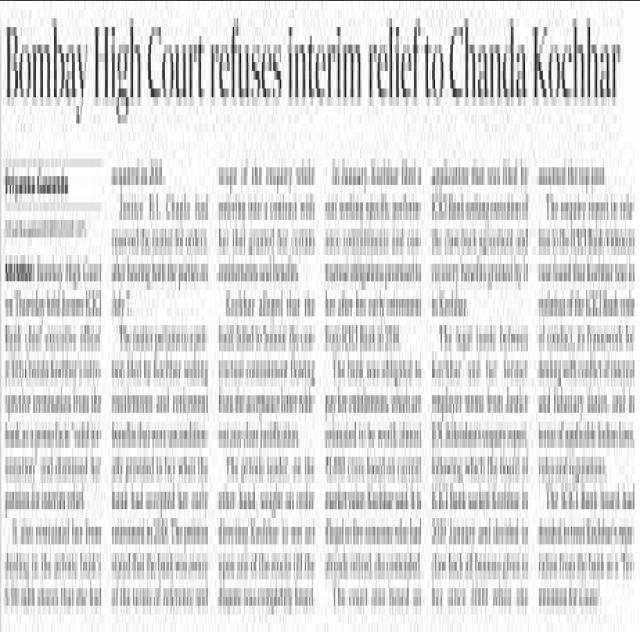paper: (0, 1, 639, 632)
